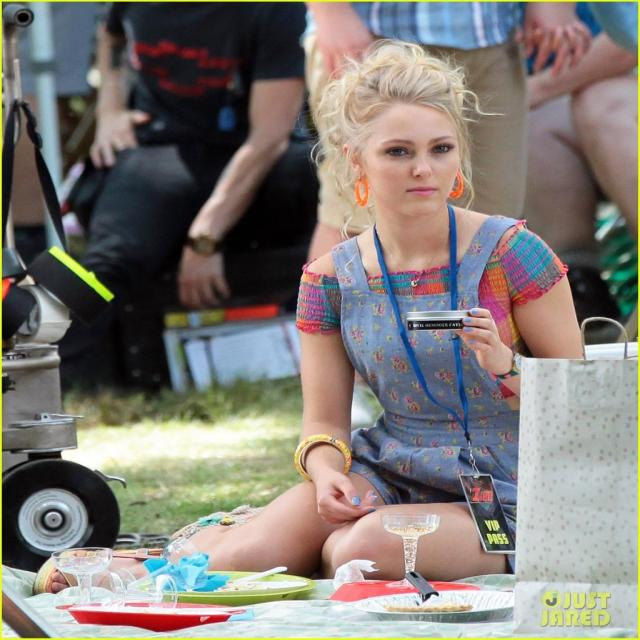Face: (336, 98, 472, 215)
